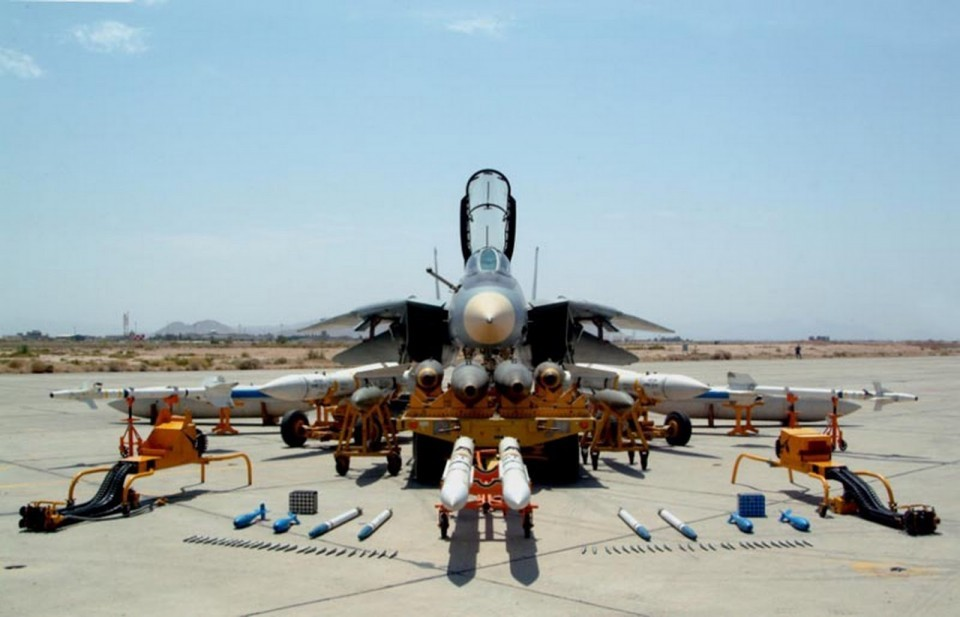F14: (293, 167, 676, 381)
